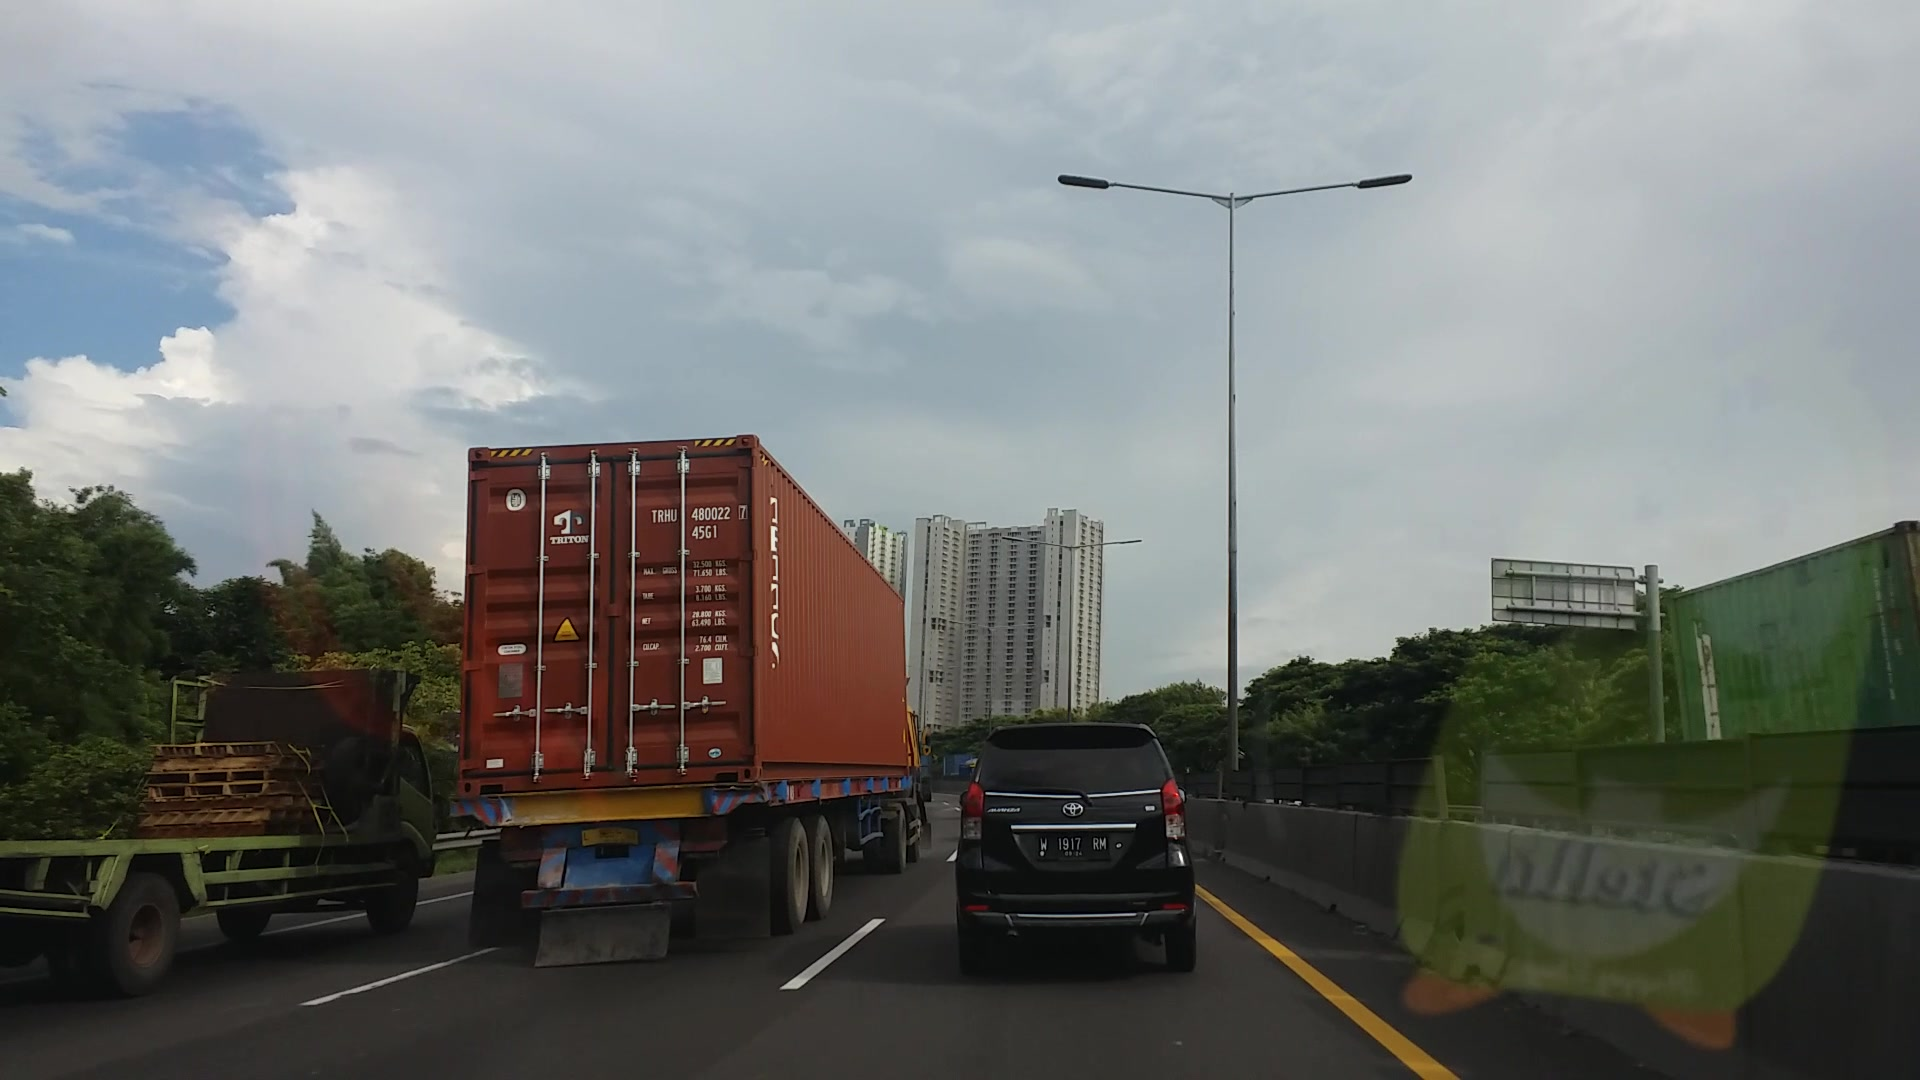plate_positive: (1038, 833, 1112, 861)
